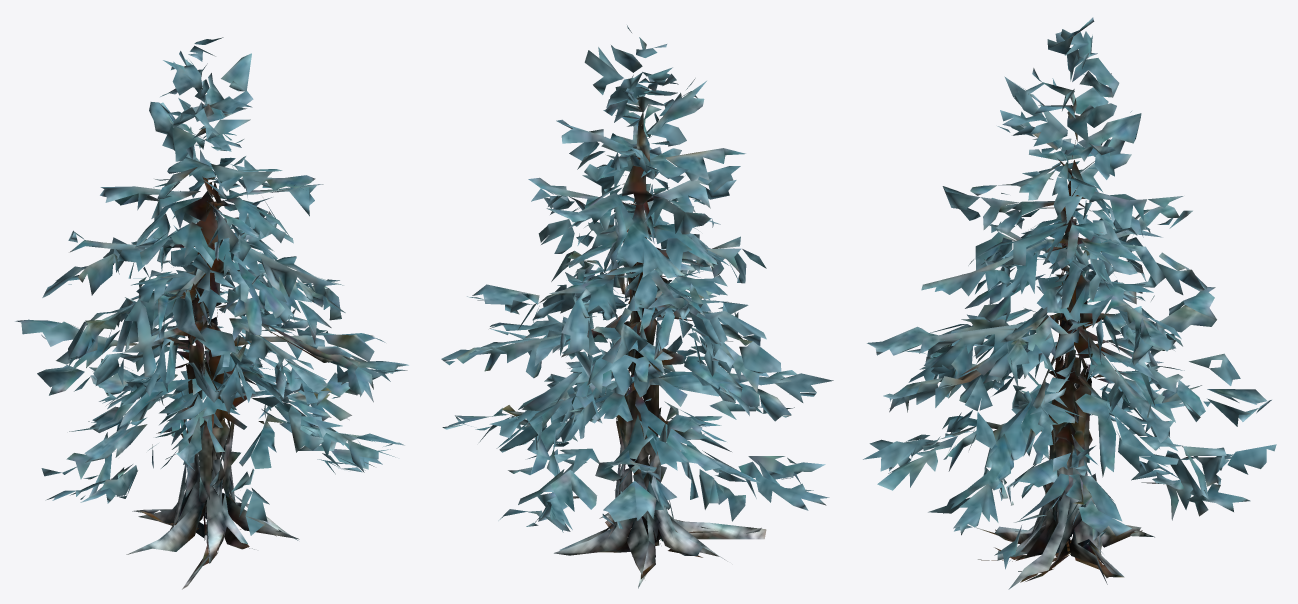
The model's file is abeto_geada_jovem.glb.
The picture shows the model from 3 angles, left to right: view 1: azimuth 30°, elevation 25°; view 2: azimuth 150°, elevation 25°; view 3: azimuth 270°, elevation 25°; orthographic projection. The views are drawn at different scales.
Parts seen in each view (by area): view 1: geometry_0.009; view 2: geometry_0.009; view 3: geometry_0.009.
Boxes of the visible parts, x1=… form: geometry_0.009: x1=15, y1=37, x2=408, y2=589; geometry_0.009: x1=441, y1=25, x2=833, y2=588; geometry_0.009: x1=863, y1=17, x2=1276, y2=589.
Size of the model in its own units: 0.6229 by 0.9189 by 0.6443.
Materials: 1 (1 with a texture image).
